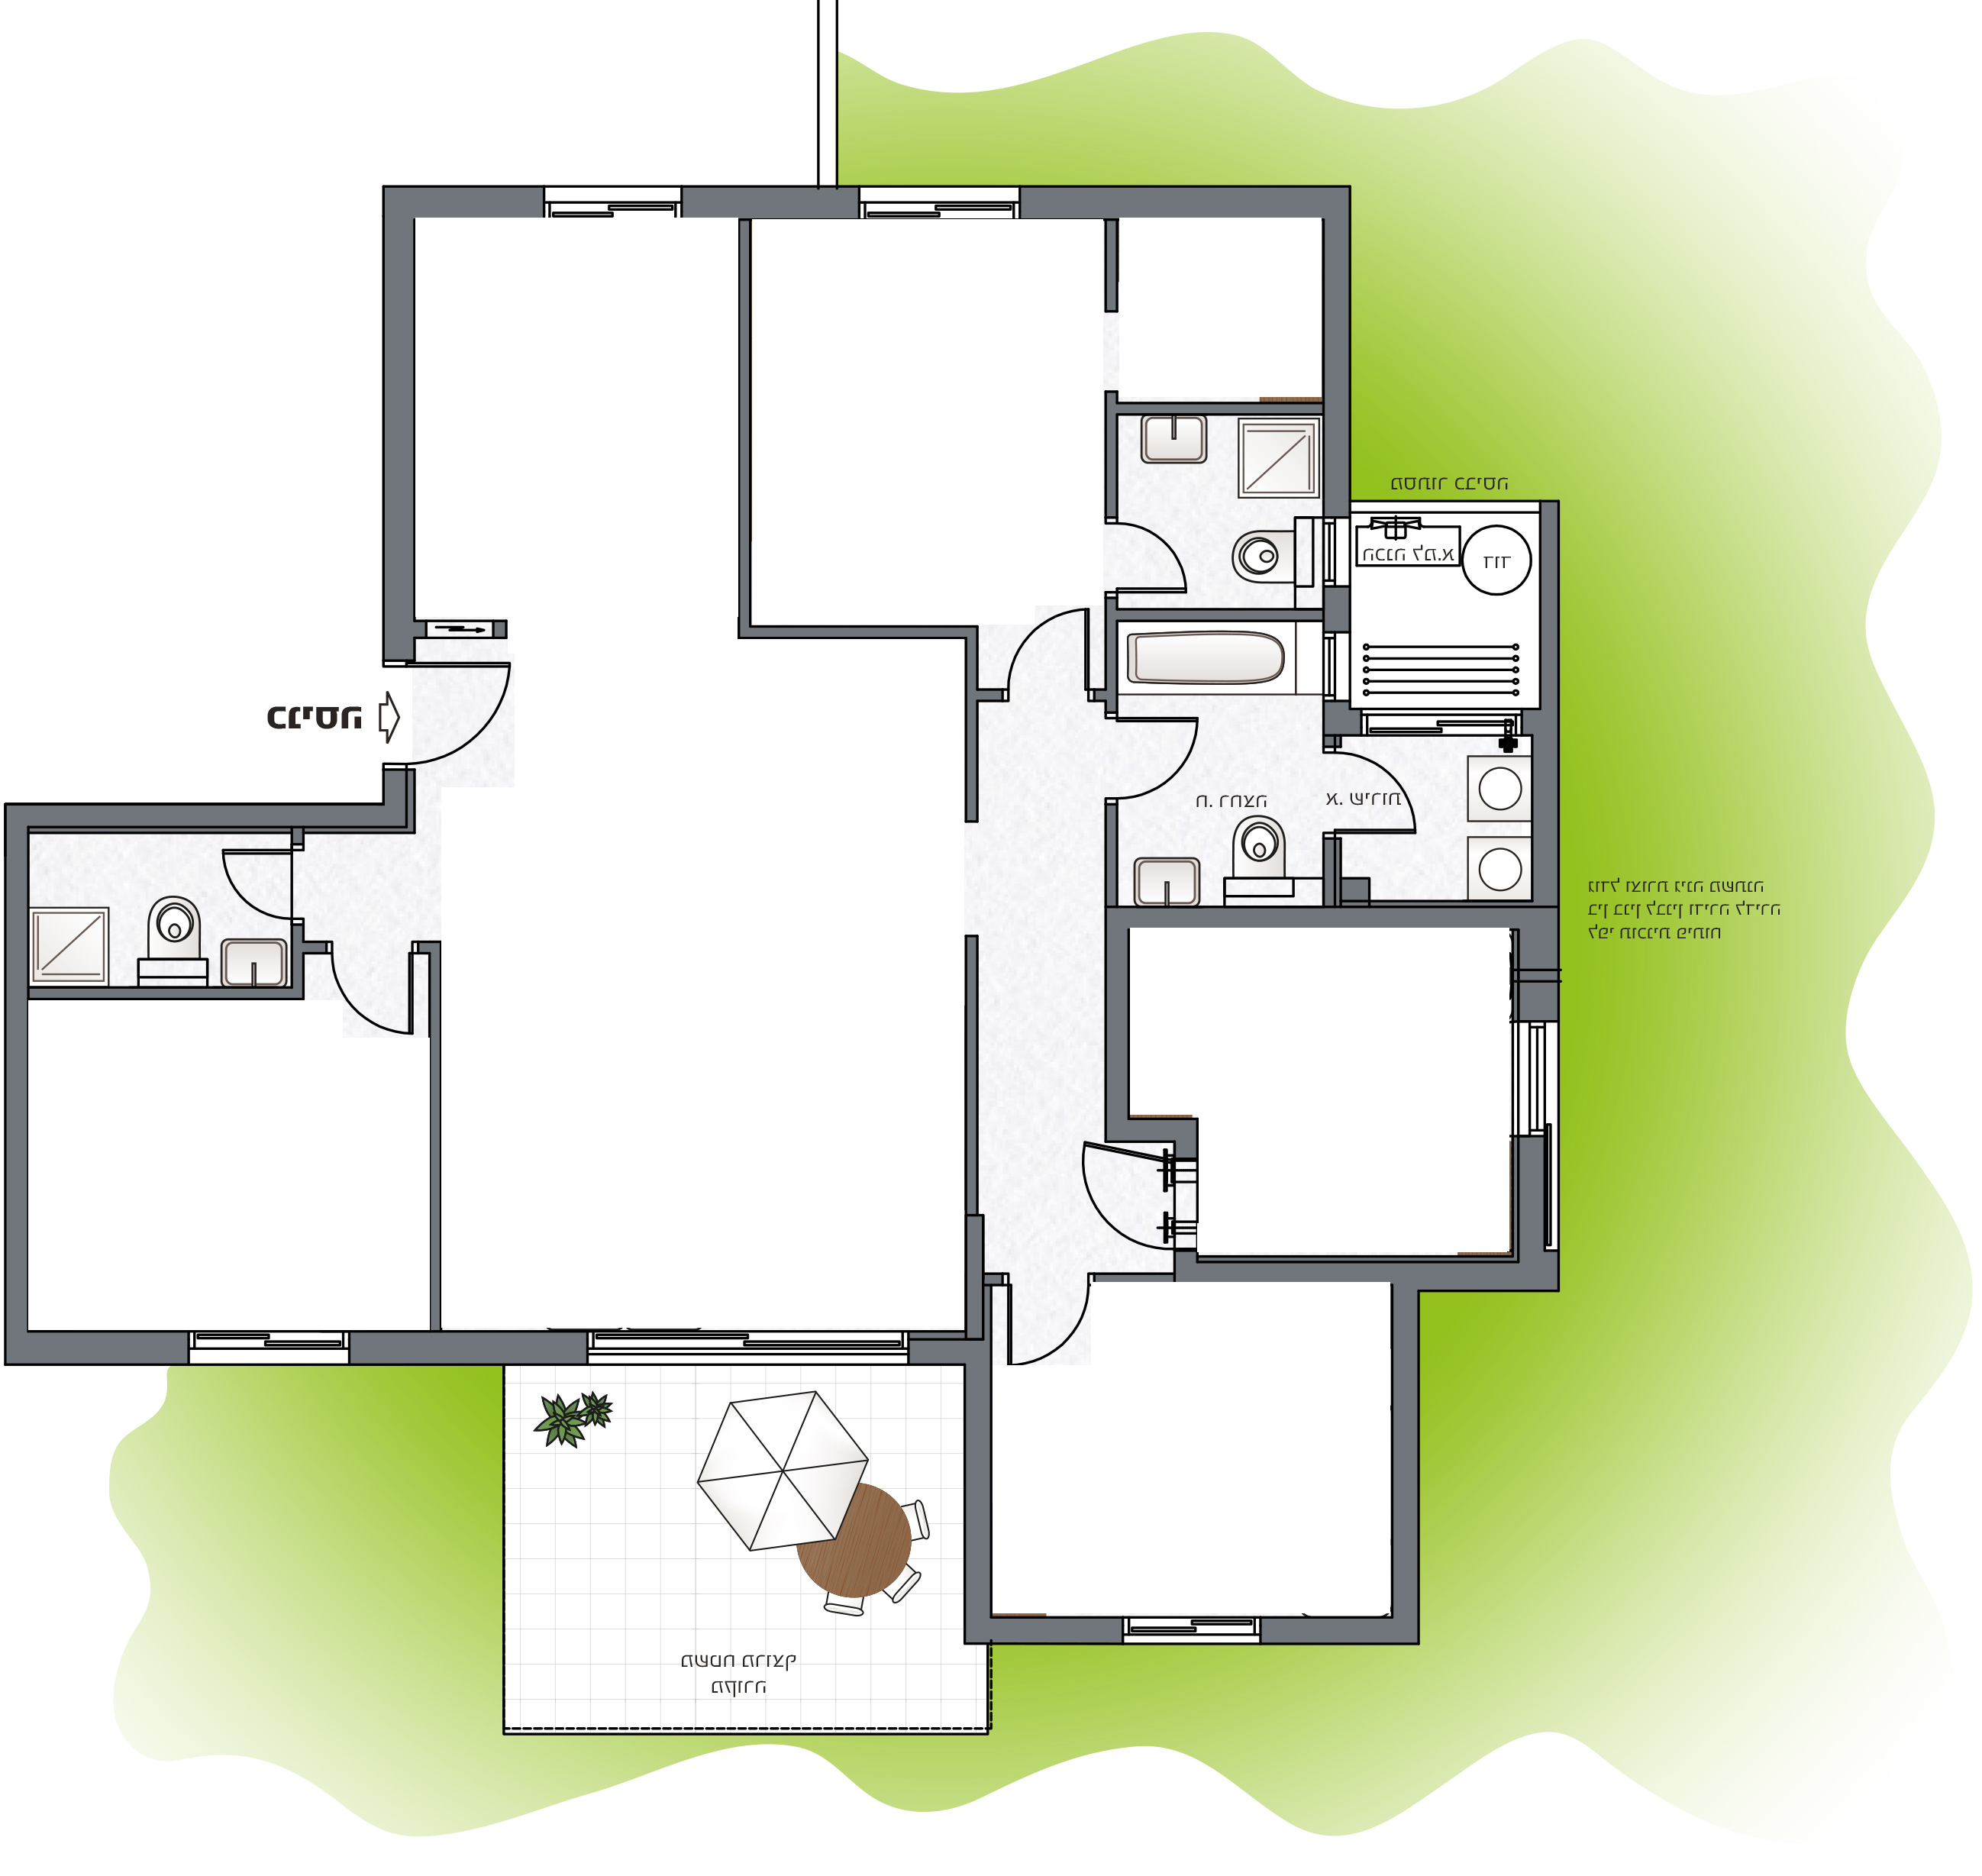door: (420, 663, 524, 767), (328, 963, 413, 1044), (215, 850, 286, 924)
wall: (2, 800, 26, 1359), (384, 183, 411, 659), (1391, 1291, 1421, 1647), (966, 1363, 986, 1627), (430, 942, 443, 1331)
window: (41, 804, 383, 825)
